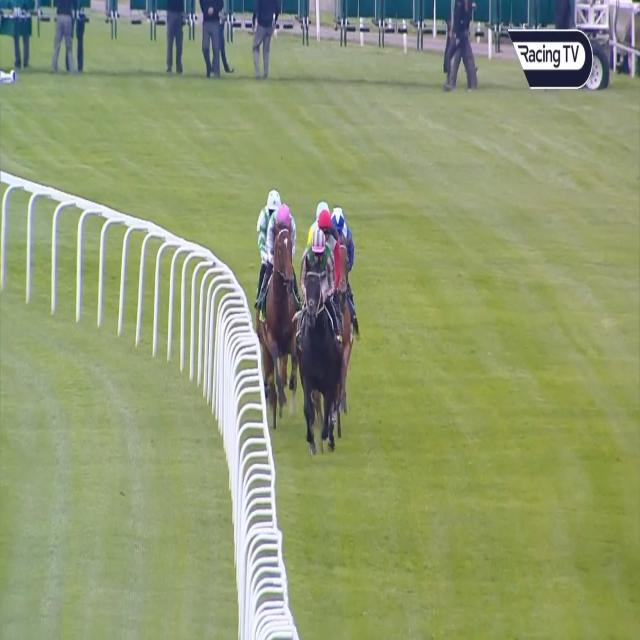horses-racing: (304, 231, 337, 450), (258, 200, 297, 382), (255, 184, 279, 309), (314, 210, 344, 298), (334, 202, 360, 274), (306, 198, 326, 239)
